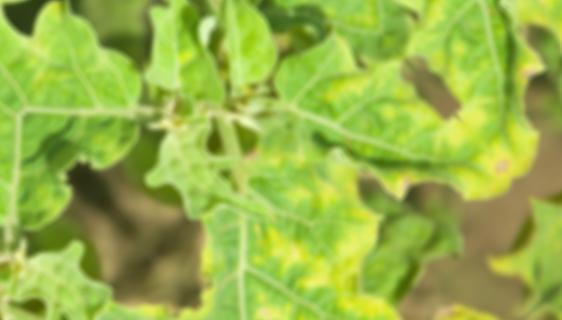Tomato leaf mosaic virus: (239, 0, 523, 282), (139, 112, 494, 320), (0, 0, 186, 181), (131, 100, 288, 262), (93, 0, 258, 130)
